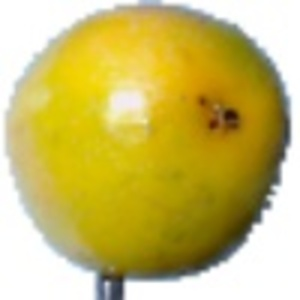maracujá: (3, 1, 294, 300)
